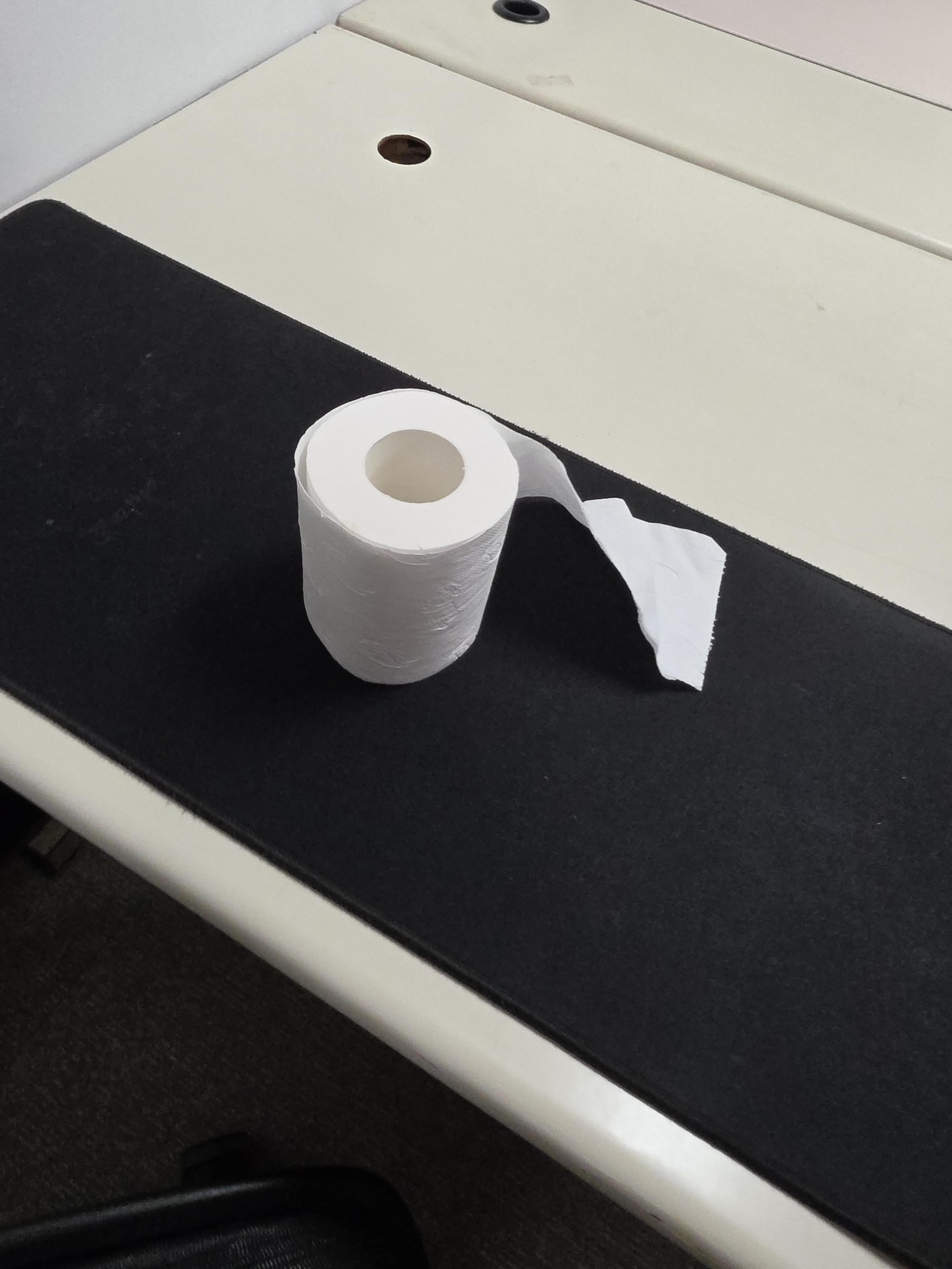tissue: (294, 389, 727, 692)
